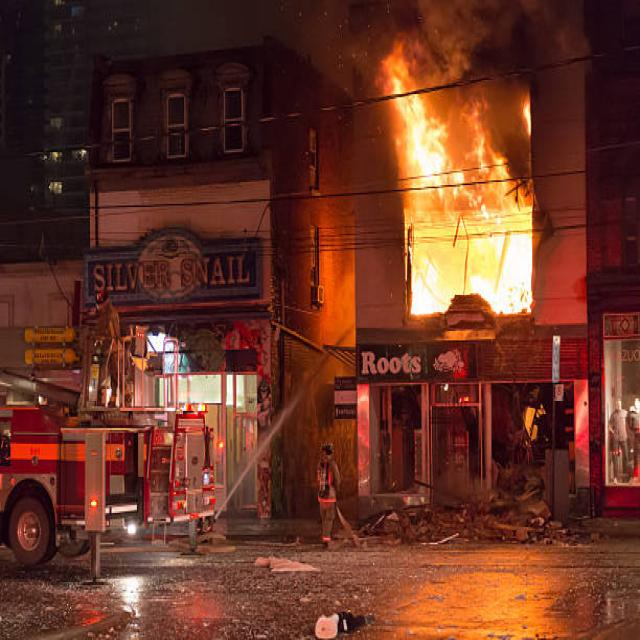fire: (393, 75, 533, 317)
